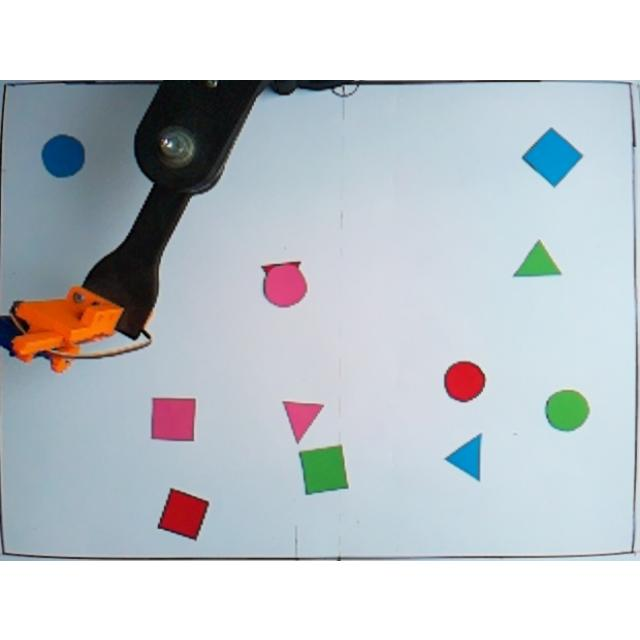blueCircle: (41, 130, 85, 178)
blueSquare: (522, 126, 584, 186)
blueTriangle: (444, 432, 486, 481)
greenCircle: (544, 387, 590, 431)
greenSquare: (296, 443, 349, 493)
greenTriangle: (512, 238, 564, 278)
pinkCircle: (263, 264, 307, 306)
pinkSquare: (150, 396, 196, 440)
pinkTriangle: (280, 398, 326, 444)
redCircle: (442, 360, 488, 402)
redSquare: (156, 488, 212, 542)
